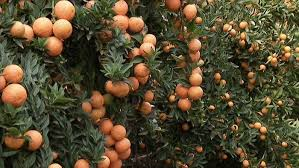orange: (2, 83, 28, 108), (2, 61, 25, 83), (32, 17, 52, 36), (46, 37, 63, 56), (110, 124, 128, 141), (110, 15, 128, 31), (128, 16, 144, 33), (113, 81, 129, 98), (181, 4, 198, 20), (187, 85, 203, 101), (133, 63, 150, 78), (113, 138, 132, 151), (139, 44, 155, 57), (142, 33, 158, 46), (177, 98, 191, 112), (188, 38, 202, 52), (187, 73, 203, 85)
